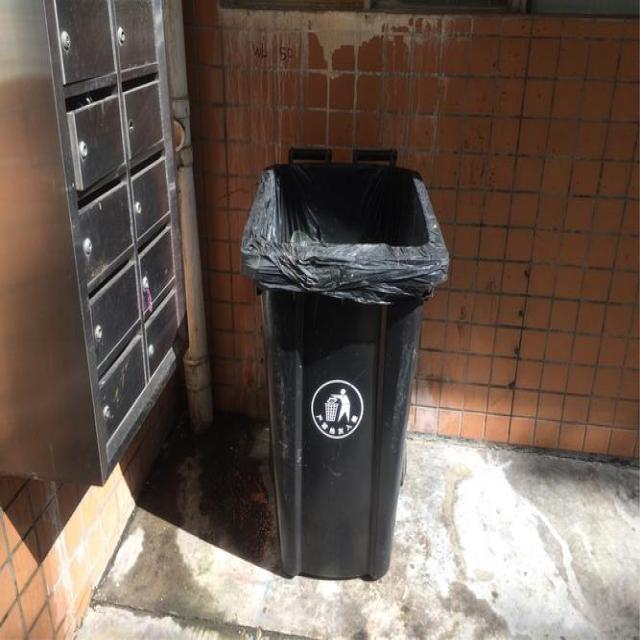garbage_bin: (240, 146, 448, 580)
